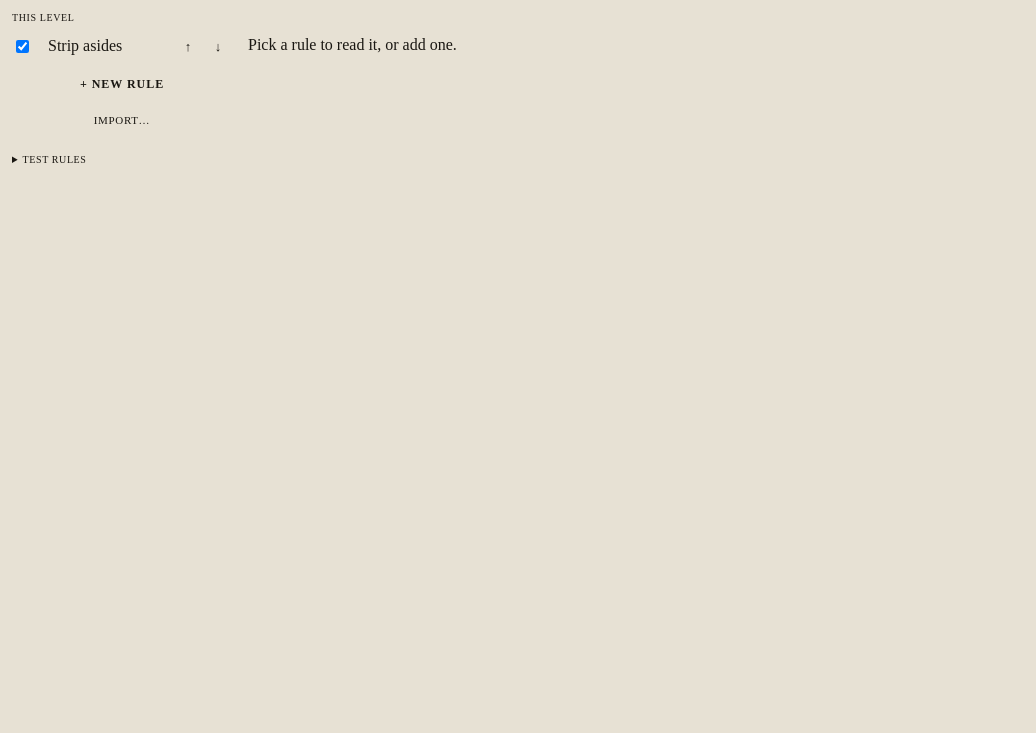
Test: + New rule opens the form directly
Click the button "+ New rule": point(122, 84) top-left (12, 69), bottom-right (232, 100)
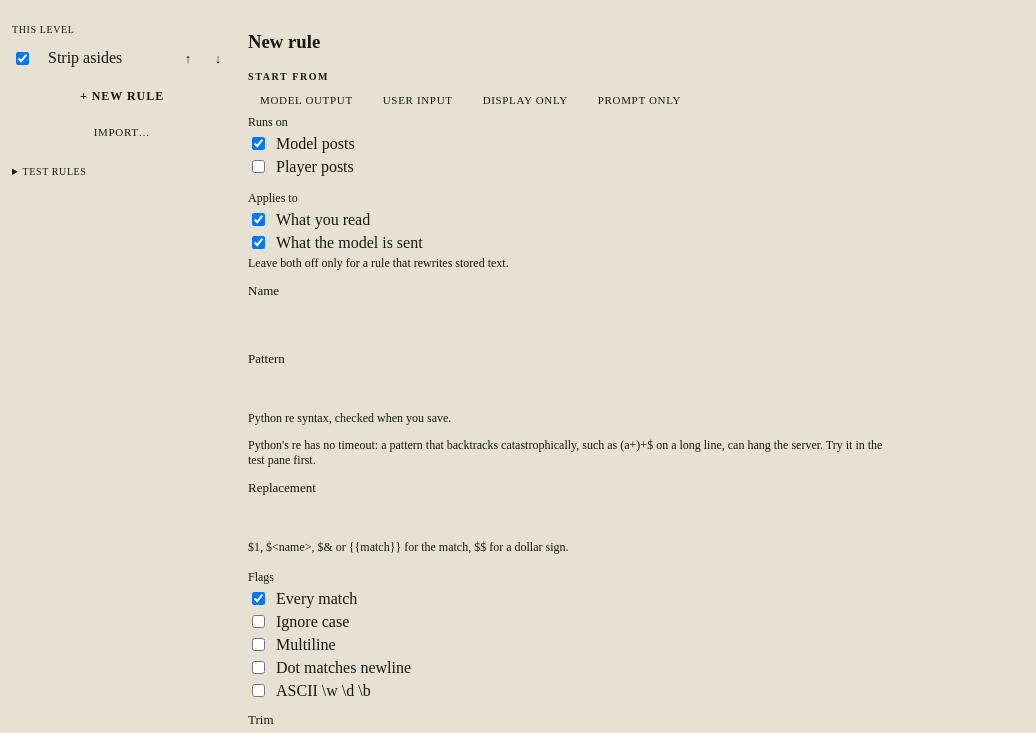
Expected: the field labelled "Pattern" is empty, top-left (248, 371), bottom-right (888, 407)
Expected: the heading "New rule" is shown, top-left (248, 31), bottom-right (320, 52)
